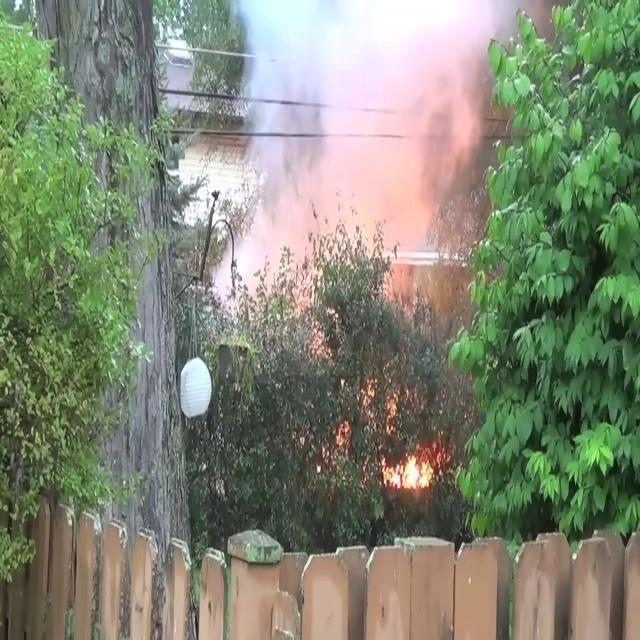Fire: (383, 446, 438, 494)
Smoke: (220, 0, 510, 288)
